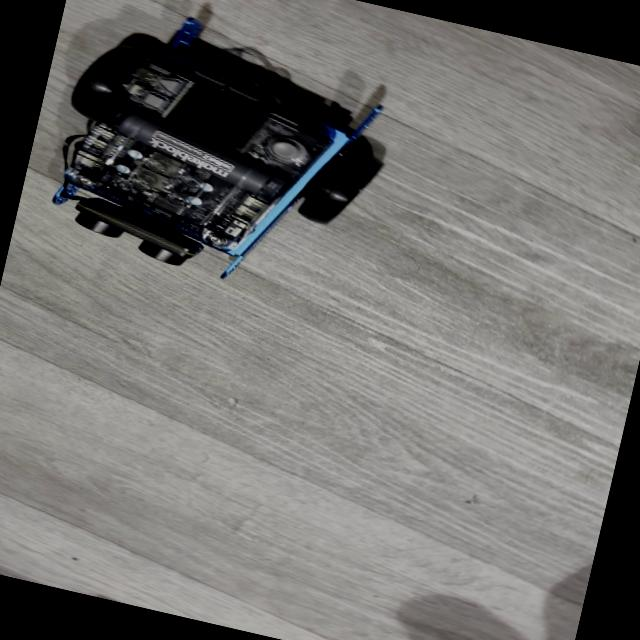mbot-detection: (34, 0, 415, 315)
